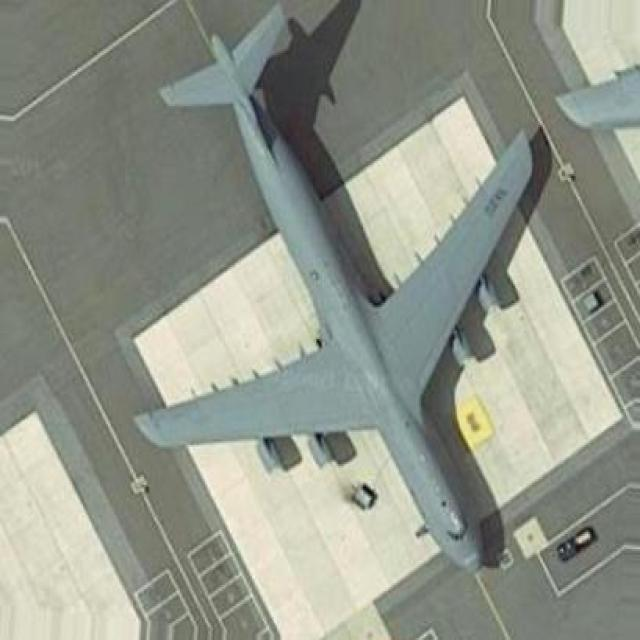C-5_TopDown: (116, 0, 555, 574)
